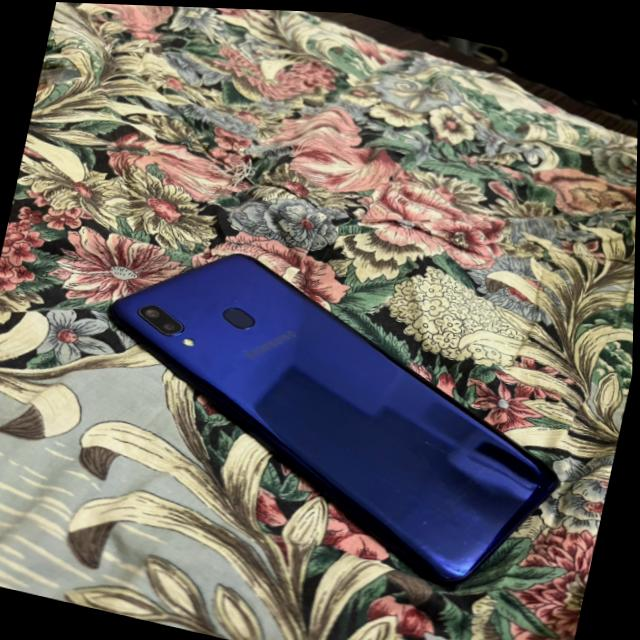Smartphone: (111, 253, 561, 581)
